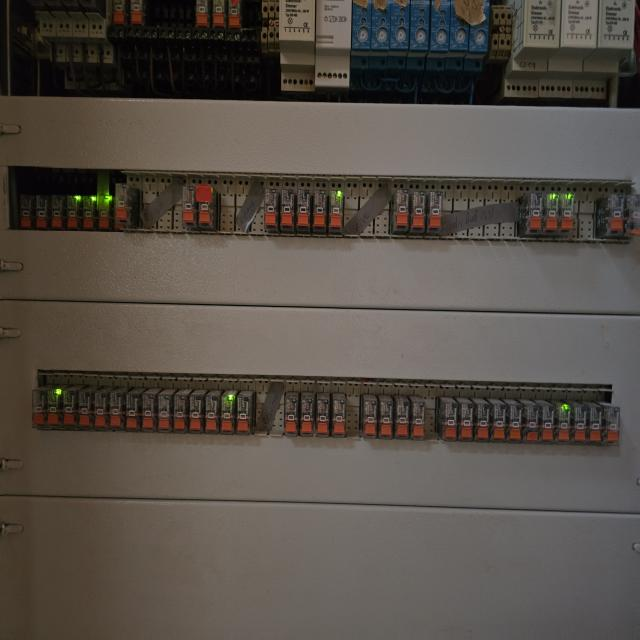Dimmer: (572, 0, 636, 99), (538, 0, 599, 98), (504, 0, 562, 97), (279, 0, 315, 90), (316, 0, 351, 86), (459, 0, 490, 80), (441, 1, 470, 79), (424, 1, 450, 80), (350, 2, 372, 90), (405, 1, 430, 78), (370, 1, 390, 92), (387, 1, 411, 76)
Relais: (115, 183, 139, 230), (595, 198, 623, 235), (520, 194, 542, 235), (438, 397, 457, 440), (197, 184, 215, 228), (360, 394, 377, 438), (604, 402, 620, 447), (283, 390, 298, 437), (393, 394, 409, 438), (506, 398, 522, 442), (570, 401, 586, 445), (392, 190, 409, 231), (457, 397, 473, 440), (473, 398, 489, 441), (236, 394, 253, 433), (427, 190, 442, 234), (490, 398, 505, 442), (523, 399, 538, 443), (410, 397, 425, 440), (539, 401, 554, 444), (332, 393, 346, 439), (77, 388, 93, 428), (587, 402, 602, 444), (204, 394, 220, 433), (626, 194, 640, 238), (378, 394, 392, 438), (555, 402, 570, 443), (46, 388, 62, 426), (96, 194, 112, 231), (411, 190, 425, 232), (182, 186, 197, 225), (300, 392, 313, 436), (545, 193, 559, 233), (32, 387, 46, 427), (126, 390, 140, 430), (157, 391, 171, 431), (562, 192, 574, 238), (264, 189, 278, 228), (62, 388, 76, 427), (93, 389, 107, 428), (142, 390, 155, 432), (313, 190, 327, 228), (173, 394, 187, 432), (316, 392, 328, 436), (109, 390, 122, 430), (66, 195, 80, 232), (296, 189, 310, 226), (329, 190, 342, 229), (189, 394, 202, 433), (221, 394, 234, 433), (36, 193, 49, 230), (19, 192, 32, 228), (282, 190, 294, 228), (52, 193, 64, 228), (82, 195, 94, 230), (195, 0, 209, 28), (130, 0, 145, 26), (212, 0, 225, 28), (228, 0, 240, 29), (113, 0, 126, 26)
Verbinder: (487, 4, 513, 64), (262, 1, 279, 52)
